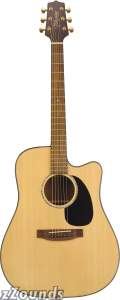guitar: (1, 1, 118, 300)
